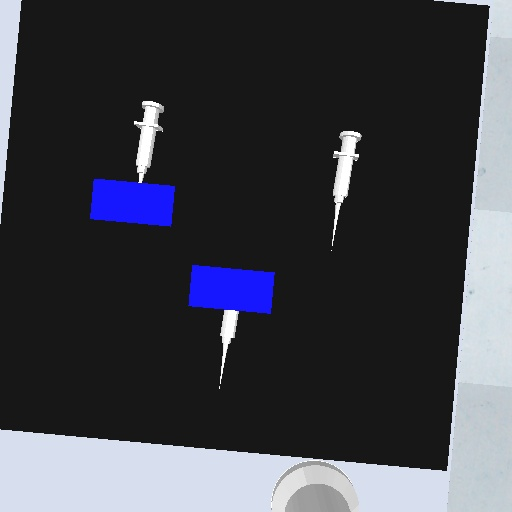jeringuilla: (328, 126, 364, 255), (130, 97, 167, 184), (214, 307, 242, 393)
